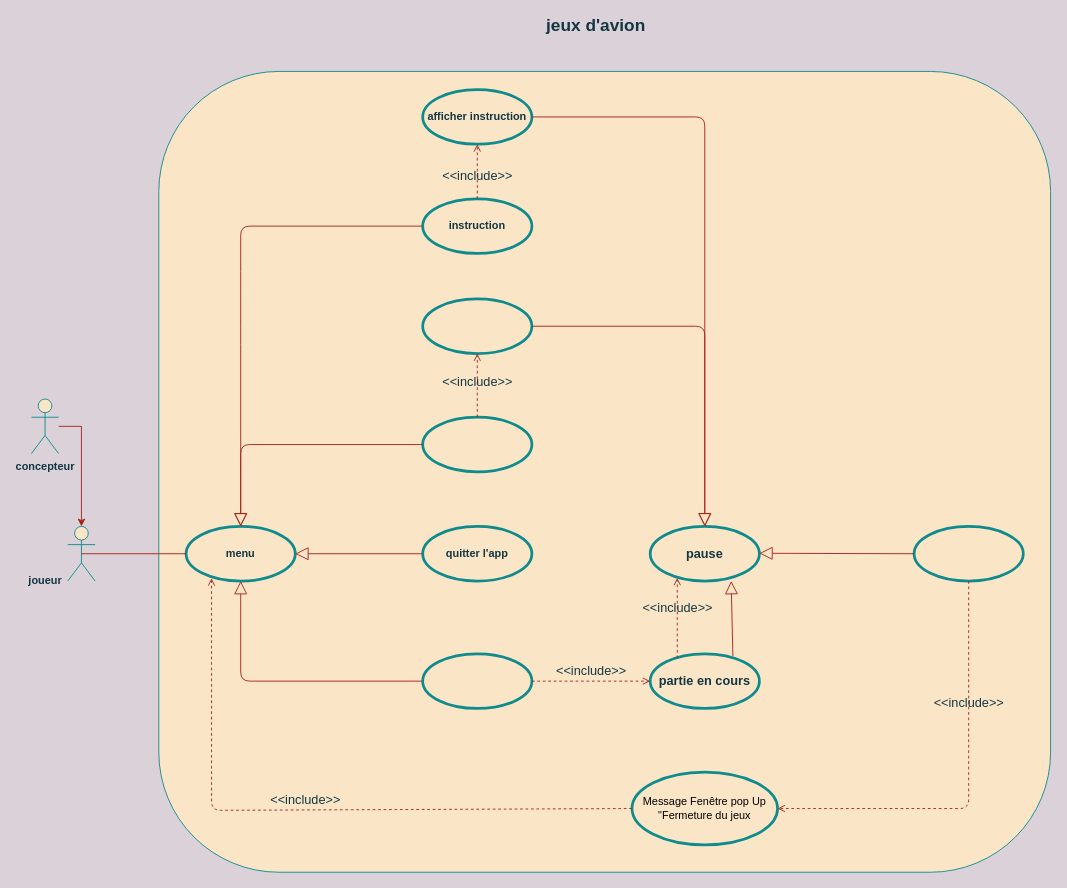
The diagram is 1067 pixels wide and 888 high, and some of its shapes have lost their labels. The shapes that lost their labels are listed below. From the top down, each one's box as (x1, y1, x2, y2) in pixels, then its label:
(421, 297, 533, 354): afficher score
(421, 415, 533, 473): score
(912, 525, 1024, 582): quitter la partie
(421, 652, 533, 709): jouer
